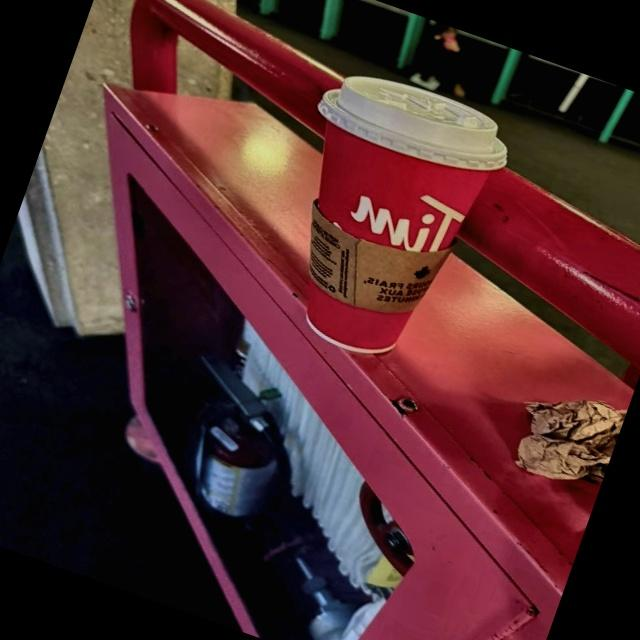Timmies: (240, 51, 522, 380)
